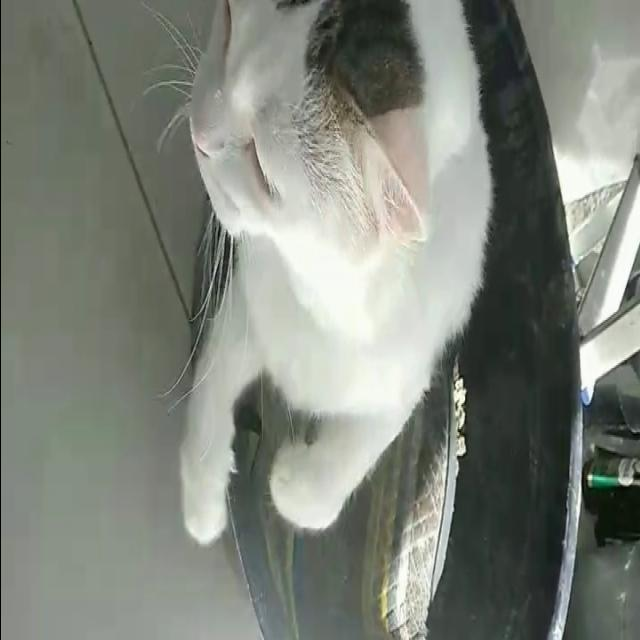Simba: (145, 0, 509, 554)
